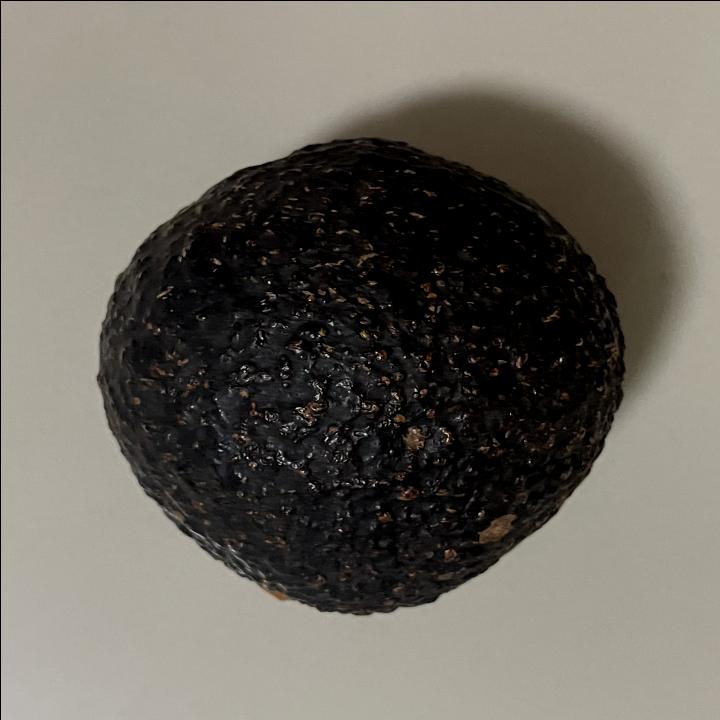Level3: (81, 126, 640, 628)
